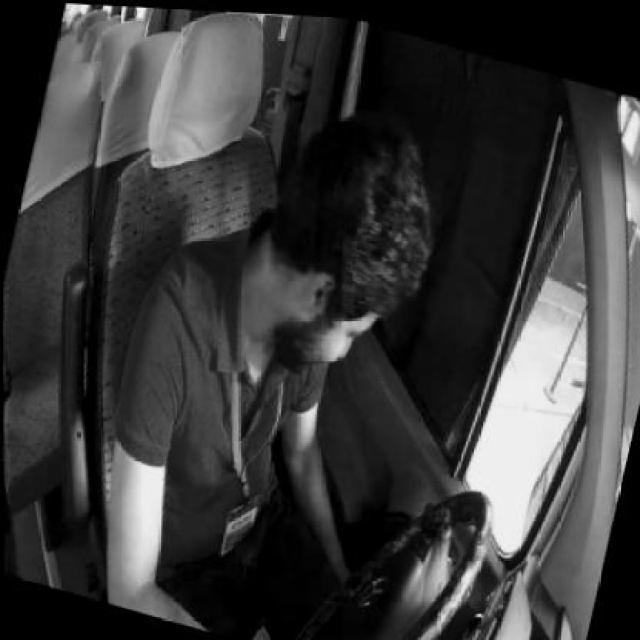Inattentive: (263, 114, 441, 378)
